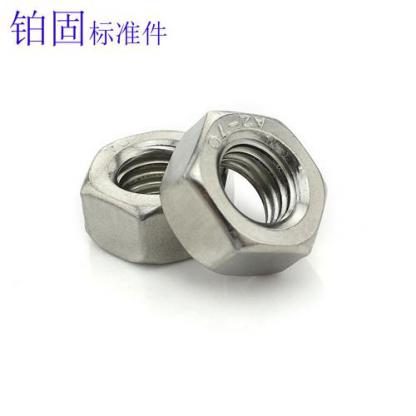FOD: (158, 106, 327, 278), (70, 127, 239, 270)
